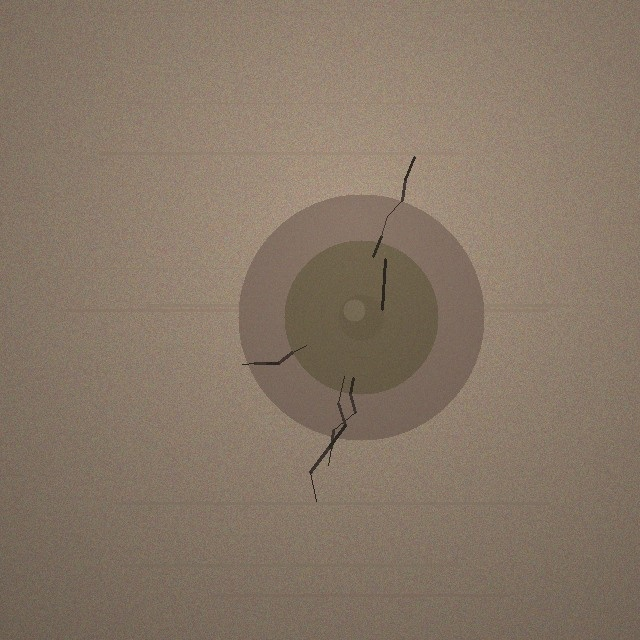crack: (238, 194, 484, 440)
